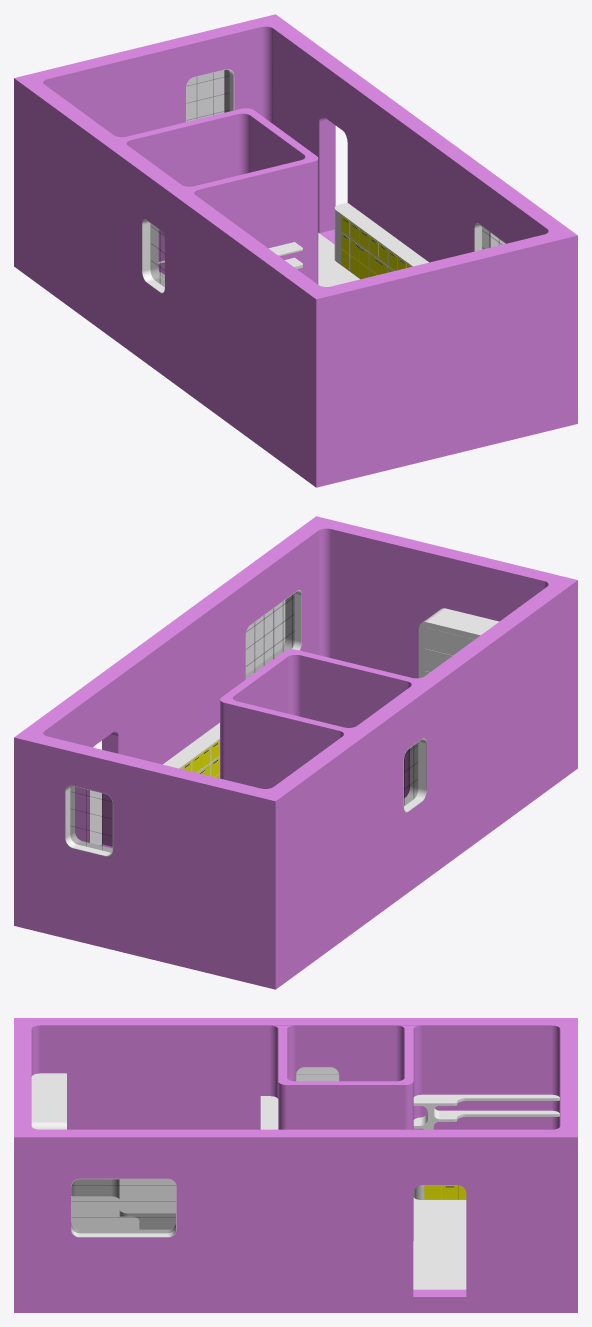
File: mobility typeB OptionB.glb
The picture shows the model from 3 angles, top to bottom: view 1: azimuth 30°, elevation 25°; view 2: azimuth 150°, elevation 25°; view 3: azimuth 270°, elevation 25°; orthographic projection. The views are drawn at different scales.
Parts seen in each view (by area): view 1: wall, 玻璃, 储物柜，木制或者整体性强的材质, 柜门，区别于整体的柜子, 窗框（金属）, floor; view 2: wall, 玻璃, 窗框（金属）, 衣柜，木制或者整体性强的材质, 衣柜柜门（木板）, 储物柜，木制或者整体性强的材质, 柜门，区别于整体的柜子; view 3: wall, 玻璃, floor, 木板, 床（软包，软垫，皮纹细腻）, 衣柜，木制或者整体性强的材质, 窗框（金属）, 床（硬边）, 客厅桌子（木板）, 架子（木板）, 柜门，区别于整体的柜子.
Part boxes in pixels (x1,y1,x2,y2): wall: (14,14,577,487); 玻璃: (150,70,504,286); 储物柜，木制或者整体性强的材质: (334,202,428,279); 柜门，区别于整体的柜子: (341,216,411,278); 窗框（金属）: (142,69,505,293); floor: (318,233,359,286); wall: (14,516,577,989); 玻璃: (70,594,417,852); 窗框（金属）: (65,590,426,856); 衣柜，木制或者整体性强的材质: (418,608,499,678); 衣柜柜门（木板）: (425,627,474,675); 储物柜，木制或者整体性强的材质: (163,723,219,778); 柜门，区别于整体的柜子: (180,740,219,778); wall: (14,1018,577,1312); 玻璃: (71,1068,338,1232); floor: (71,1196,466,1289); 木板: (413,1094,559,1129); 床（软包，软垫，皮纹细腻）: (75,1179,175,1221); 衣柜，木制或者整体性强的材质: (31,1073,66,1129); 窗框（金属）: (71,1067,339,1237); 床（硬边）: (71,1180,175,1229); 客厅桌子（木板）: (71,1216,139,1229); 架子（木板）: (260,1096,278,1129); 柜门，区别于整体的柜子: (424,1185,466,1199).
Bounding box in the file's own units: 4.8 × 3.3 × 9.6.
